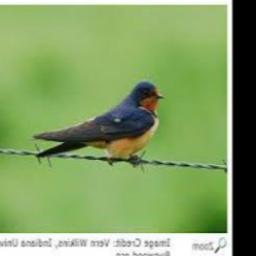Swallow: (33, 80, 164, 160)
